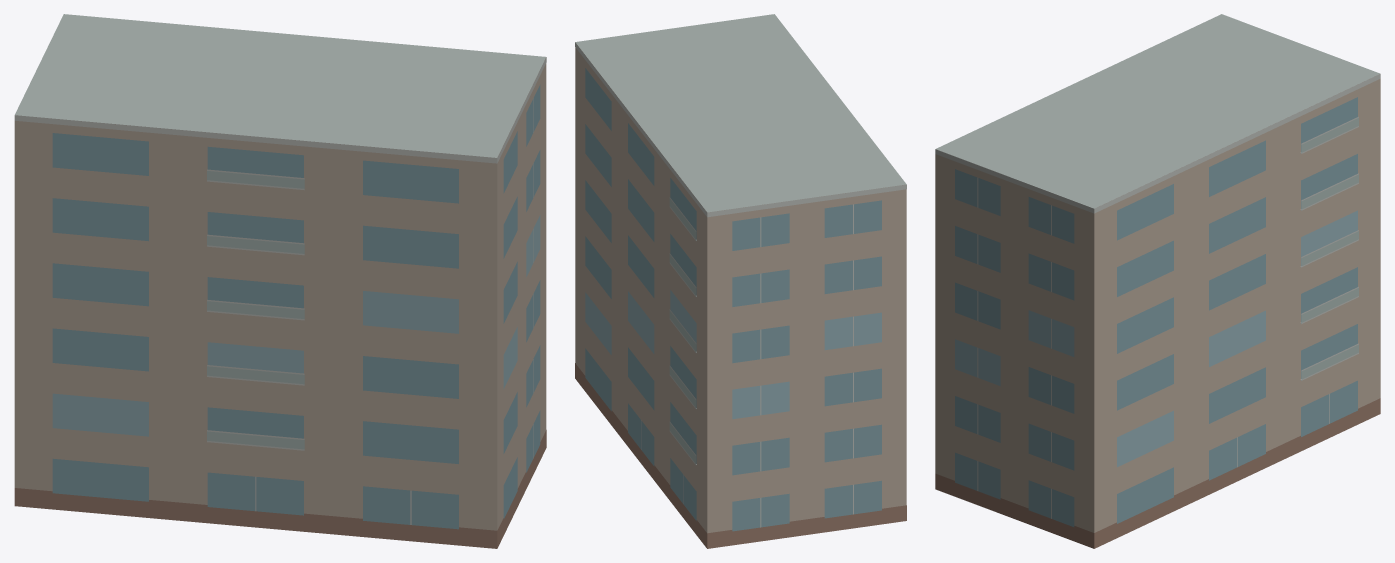
The model's file is survey-upis-32523423.glb.
3 views of the same model, side by side, from view 1: azimuth 30°, elevation 25°; view 2: azimuth 150°, elevation 25°; view 3: azimuth 270°, elevation 25° (orthographic). The views are drawn at different scales.
Visible parts, largest first — view 1: survey-upis-32523423.tmp; view 2: survey-upis-32523423.tmp; view 3: survey-upis-32523423.tmp.
Boxes of the visible parts, <box> form: survey-upis-32523423.tmp: <box>14,14,546,548</box>; survey-upis-32523423.tmp: <box>575,14,906,548</box>; survey-upis-32523423.tmp: <box>935,14,1380,548</box>.
Bounding box in the file's own units: 20.88 × 17 × 20.18.
